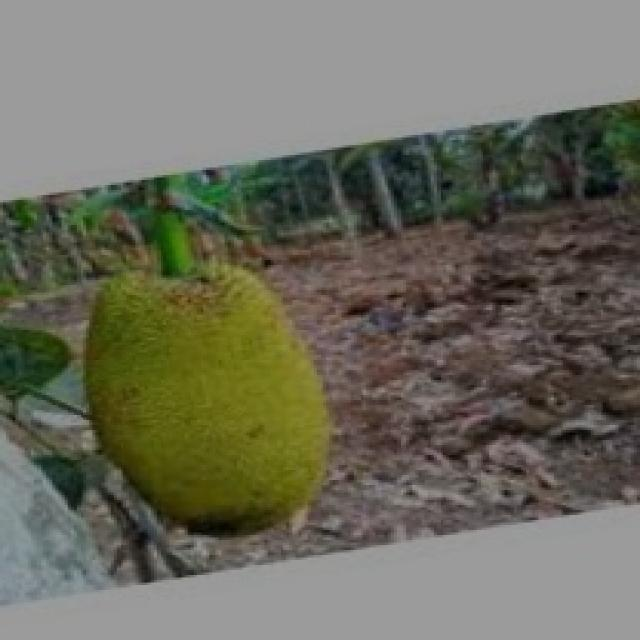Fruit: (46, 228, 366, 568)
